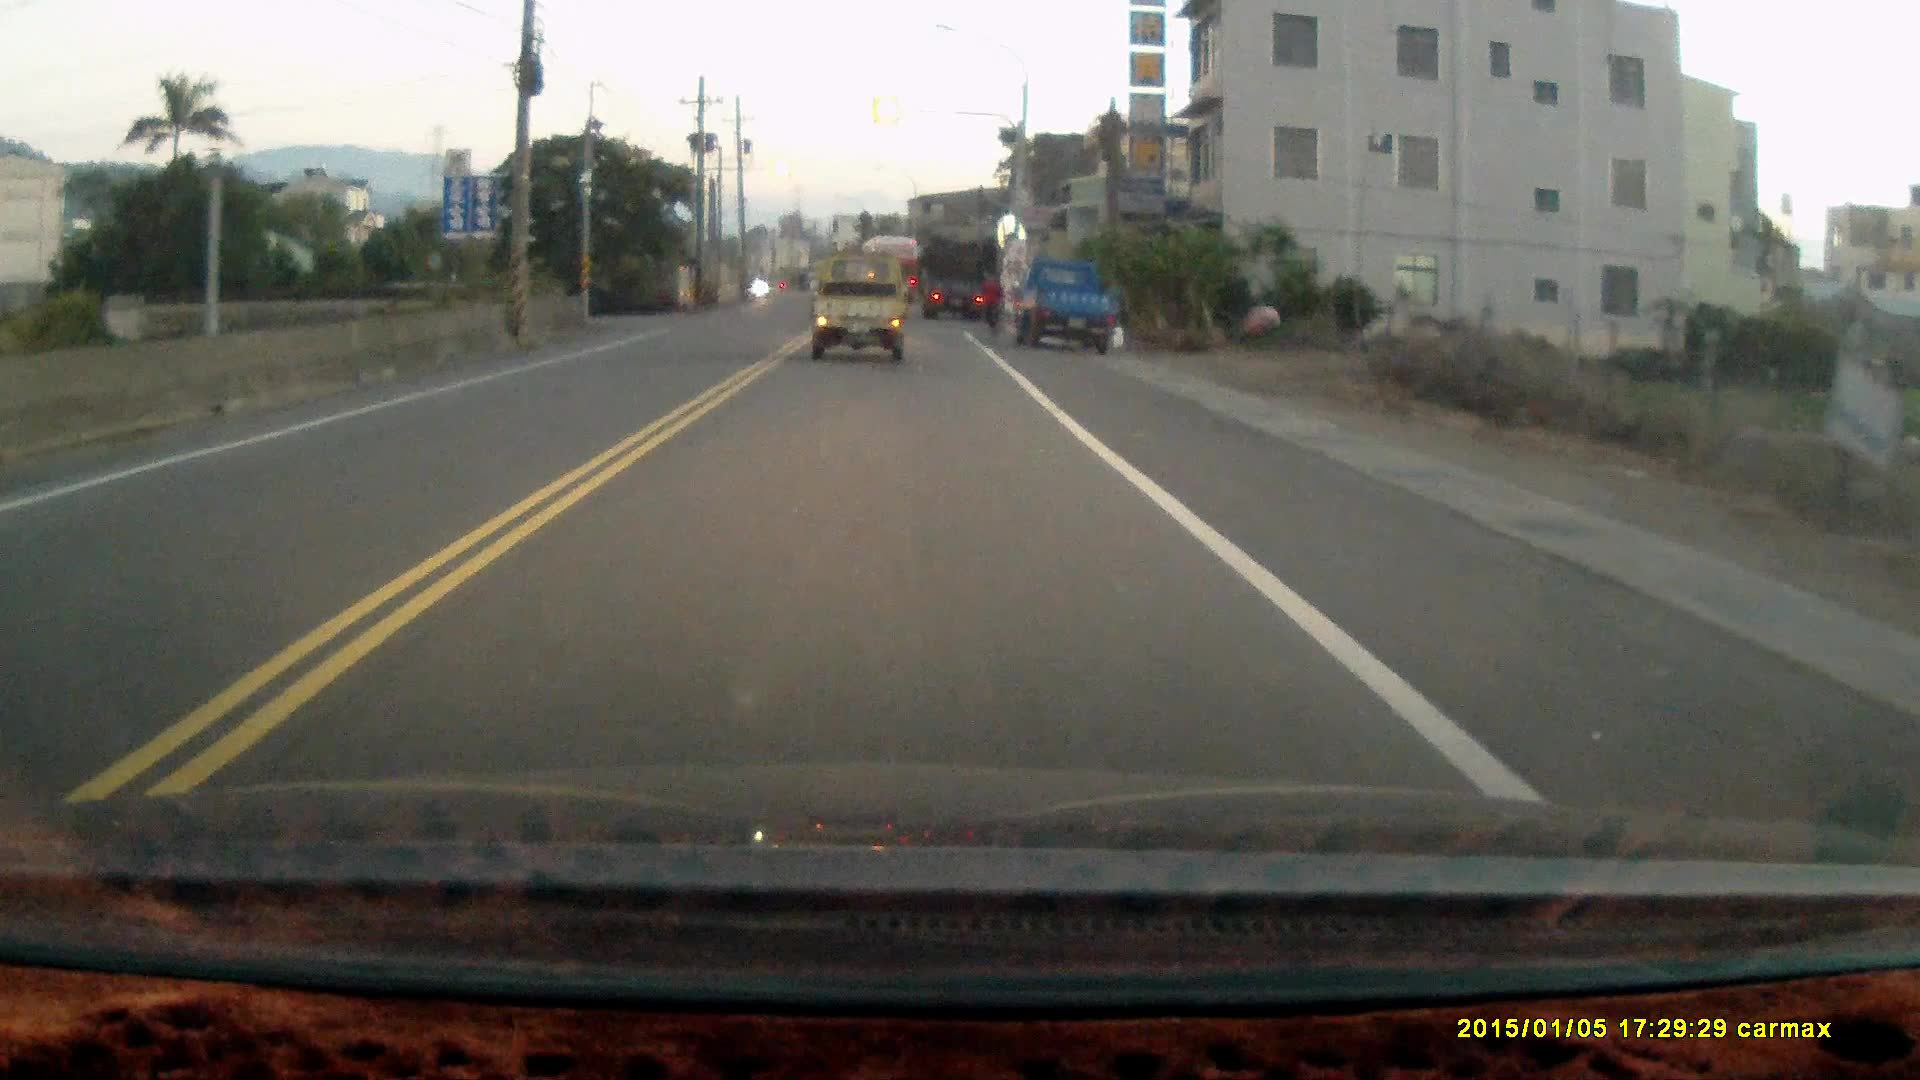pedestrian: (979, 269, 1002, 338)
vehicle: (809, 255, 910, 369), (1008, 257, 1118, 353), (921, 243, 998, 319)
